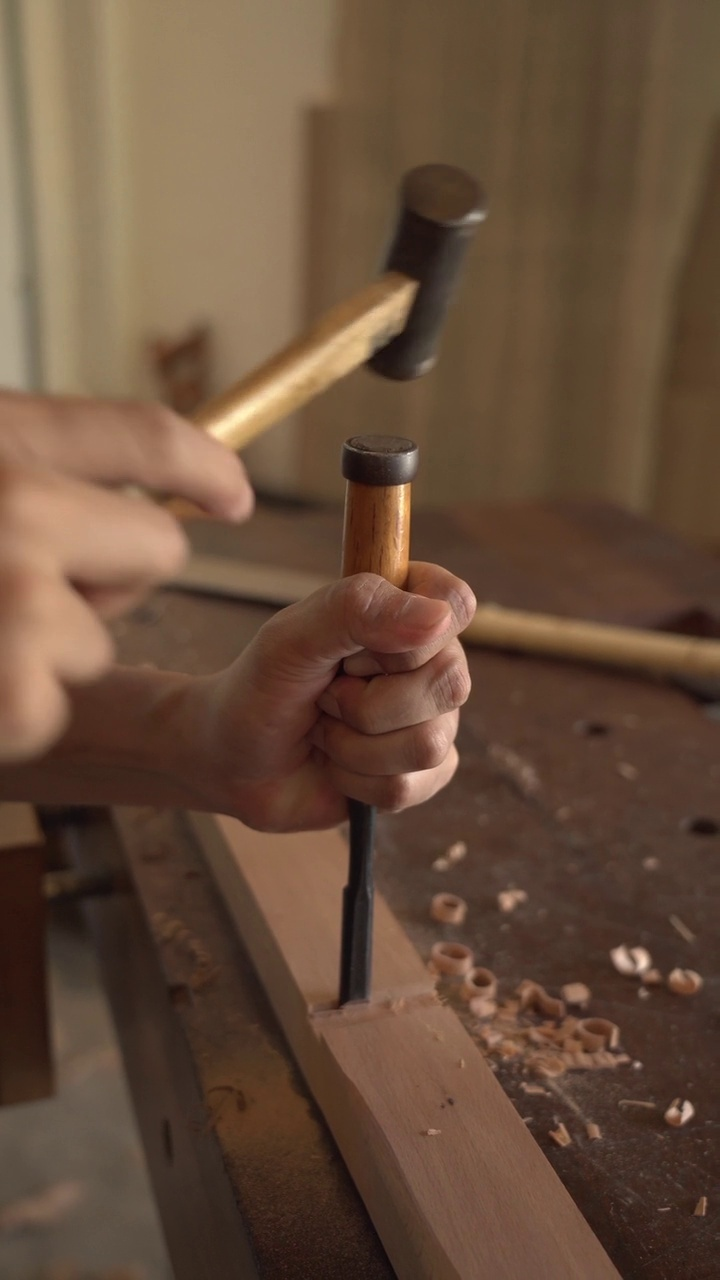hammer: (33, 153, 493, 528)
